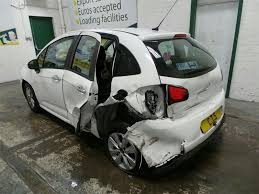Dent: (75, 79, 188, 171)
